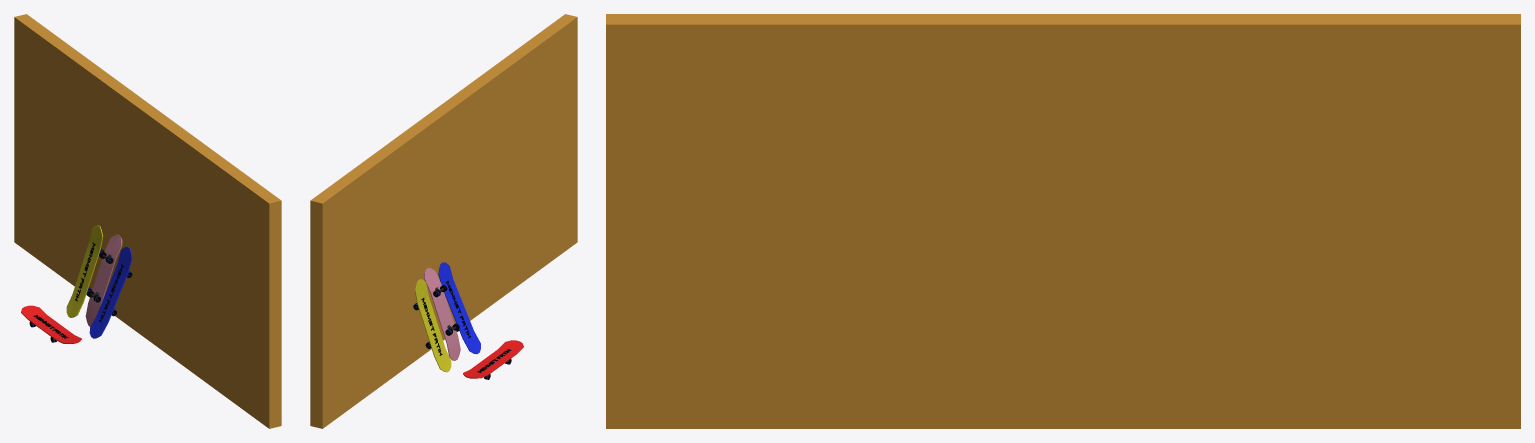
Rendered from skateboard2.FBX.
3 views of the same model, side by side, from view 1: azimuth 30°, elevation 25°; view 2: azimuth 150°, elevation 25°; view 3: azimuth 270°, elevation 25° (orthographic). The views are drawn at different scales.
Parts seen in each view (by area): view 1: Box007, Box011, Box005, Box008, Box001; view 2: Box007, Box005, Box011, Box008, Box001; view 3: Box007.
Part boxes in pixels (left/top/right/bottom): Box007: left=14, top=14, right=281, bottom=428; Box011: left=89, top=246, right=132, bottom=338; Box005: left=66, top=225, right=103, bottom=317; Box008: left=85, top=234, right=122, bottom=326; Box001: left=21, top=305, right=81, bottom=343; Box007: left=310, top=14, right=577, bottom=428; Box005: left=415, top=279, right=451, bottom=372; Box011: left=438, top=262, right=480, bottom=354; Box008: left=424, top=267, right=460, bottom=360; Box001: left=463, top=340, right=523, bottom=378; Box007: left=606, top=14, right=1520, bottom=428.
Bounding box in the file's own units: 37.43 × 91.42 × 187.
